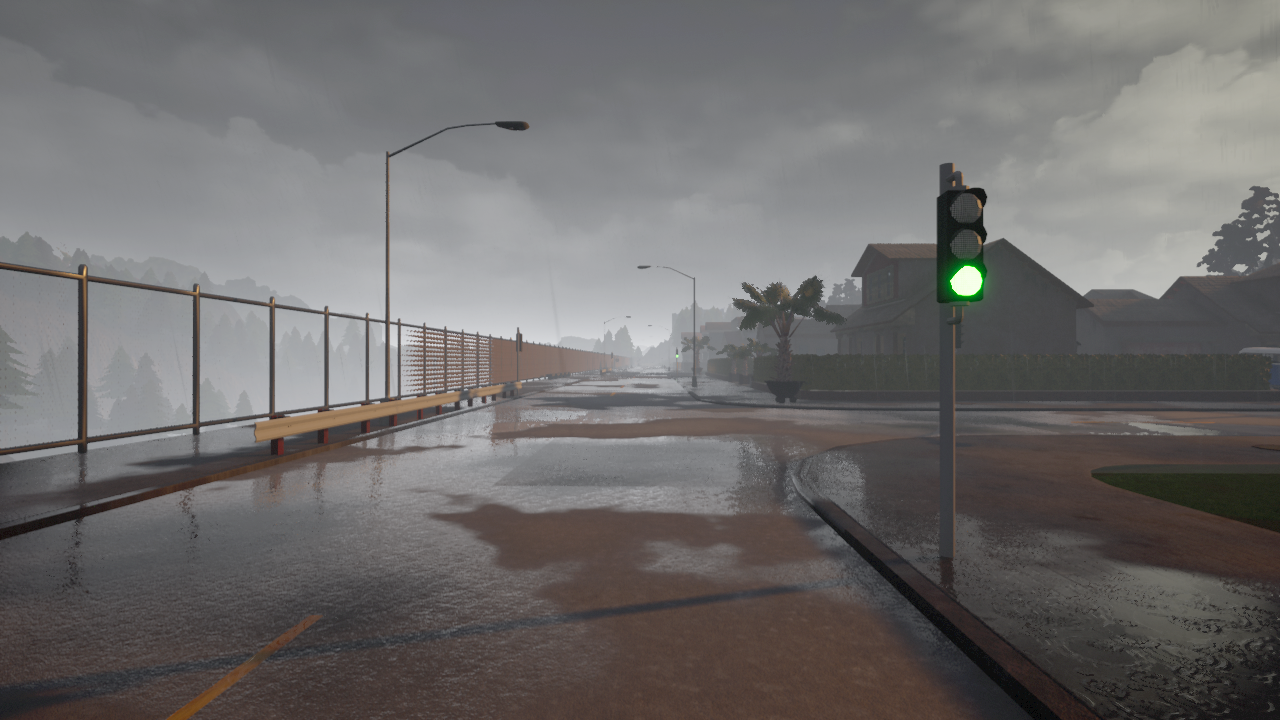green: (933, 186, 988, 303)
